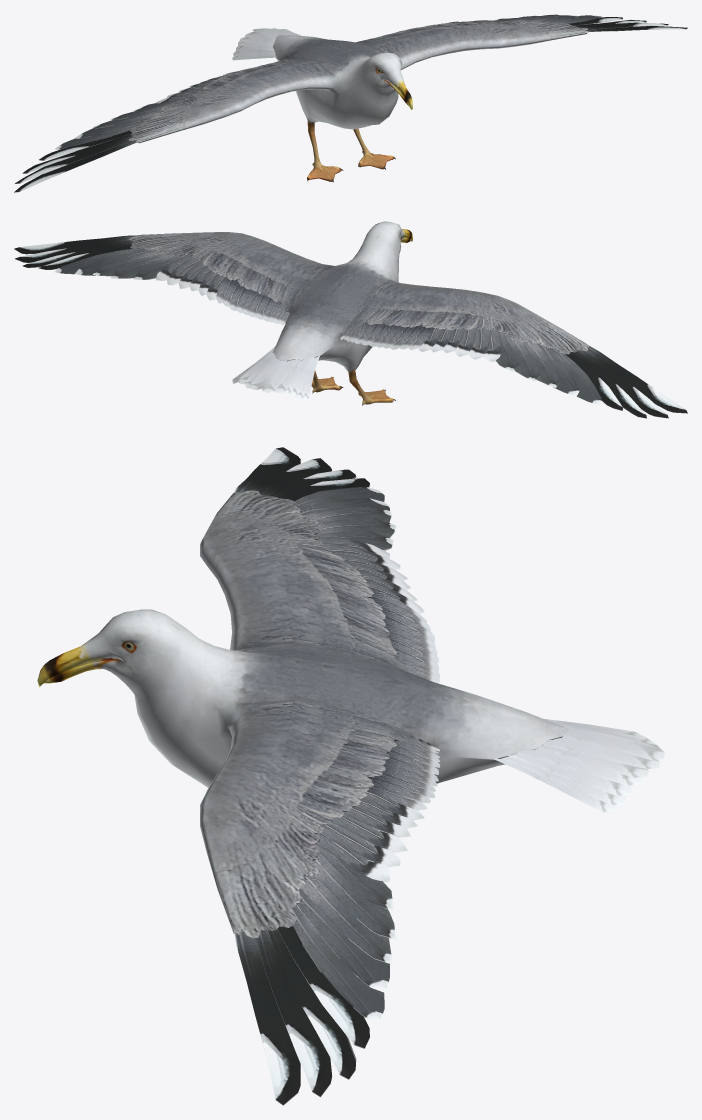
File: Seagull.fbx
3 renders of one model, top to bottom at view 1: azimuth 30°, elevation 25°; view 2: azimuth 150°, elevation 25°; view 3: azimuth 270°, elevation 25°, orthographic. The views are drawn at different scales.
Visible parts, largest first — view 1: sm_1_0_0; view 2: sm_1_0_0; view 3: sm_1_0_0.
Boxes of the visible parts, box(x1,y1,x2,y2) form: sm_1_0_0: box(14, 14, 687, 192); sm_1_0_0: box(14, 221, 687, 418); sm_1_0_0: box(37, 447, 664, 1105).
Size of the model in its own units: 134 by 26.95 by 53.99.
Materials: 1 (1 with a texture image).
